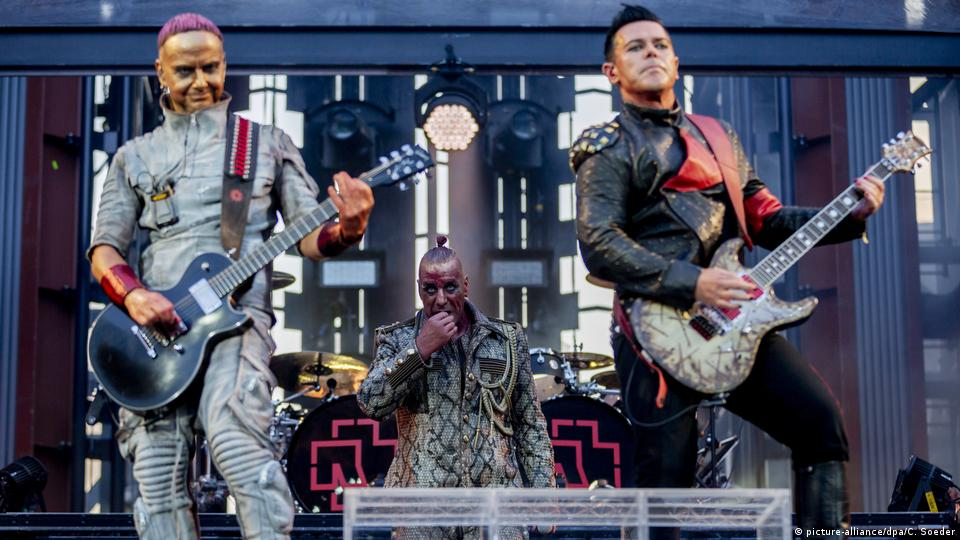acousticguitar: (87, 140, 437, 416), (624, 130, 934, 400)
